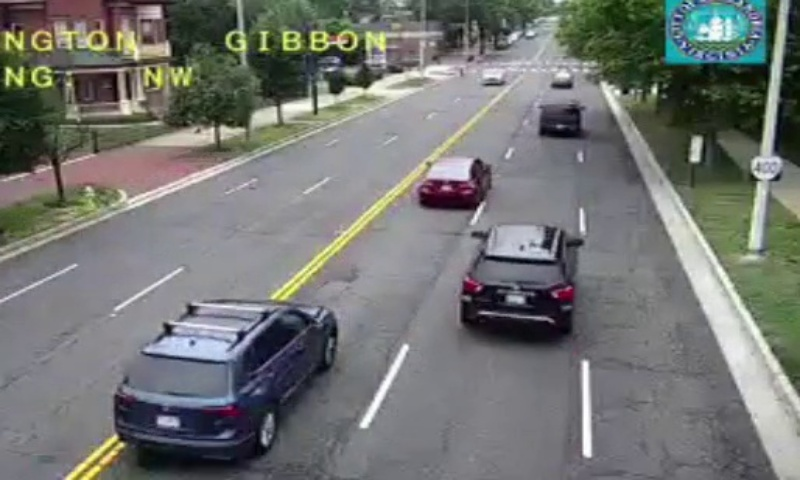car: (113, 300, 337, 459), (459, 223, 578, 330), (418, 156, 490, 204), (538, 101, 582, 138)
